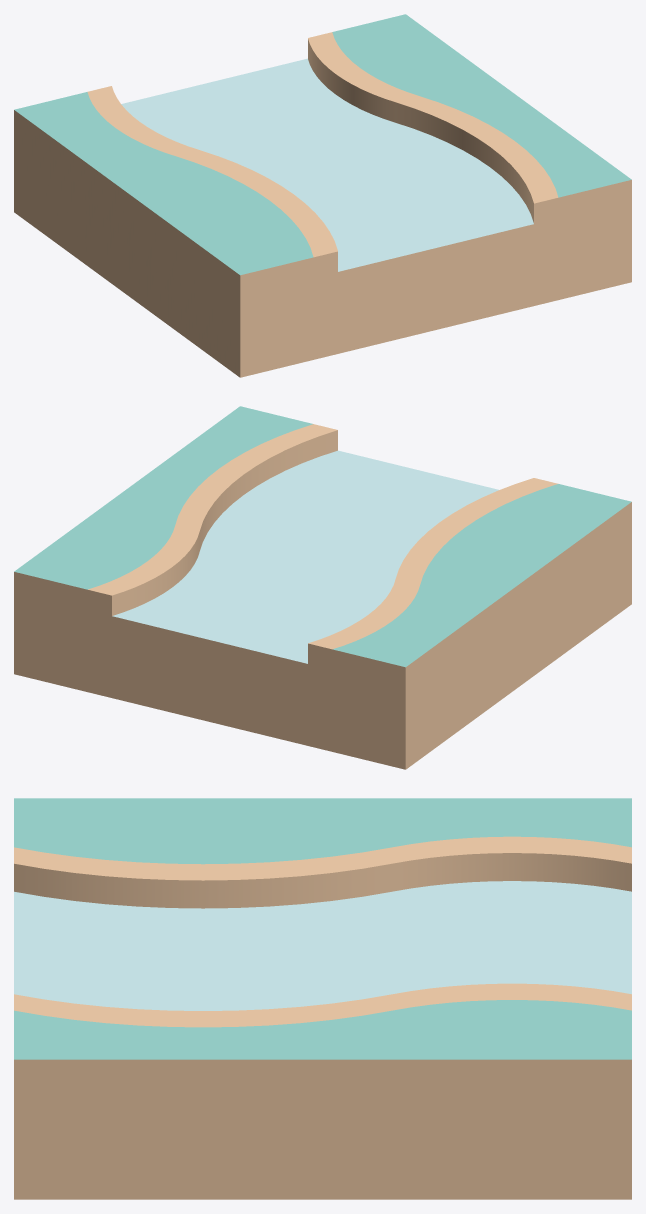
File: ground_dirtRiver.glb
3 views of the same model, one above another, from view 1: azimuth 30°, elevation 25°; view 2: azimuth 150°, elevation 25°; view 3: azimuth 270°, elevation 25° (orthographic). The views are drawn at different scales.
Visible parts, largest first — view 1: ground_dirtRiver; view 2: ground_dirtRiver; view 3: ground_dirtRiver.
Boxes of the visible parts, x1,y1,x2,y2 form: ground_dirtRiver: [14, 14, 631, 377]; ground_dirtRiver: [14, 406, 631, 769]; ground_dirtRiver: [14, 798, 631, 1199].
Bounding box in the file's own units: 1 × 0.25 × 1.
